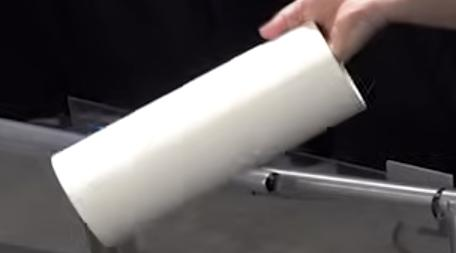coral: (50, 20, 366, 247)
